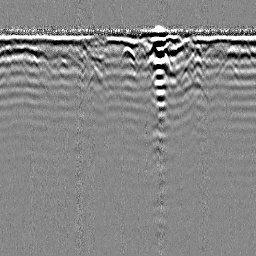cavity: (119, 44, 138, 63)
